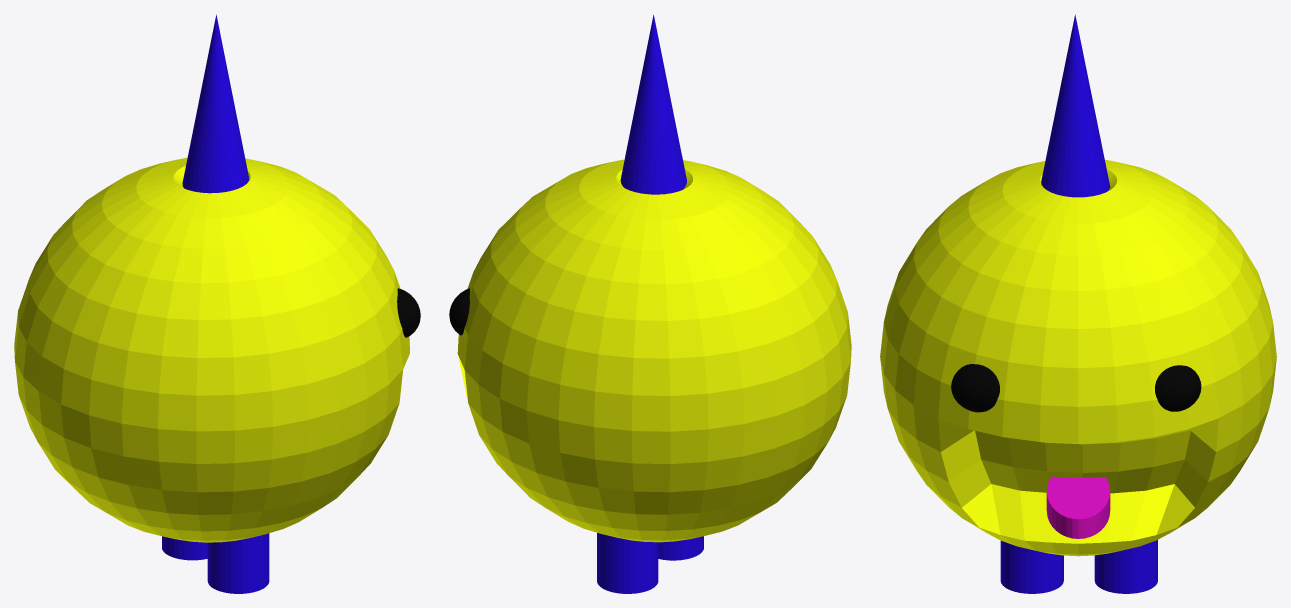
The model's file is Character.fbx.
The picture shows the model from 3 angles, left to right: view 1: azimuth 30°, elevation 25°; view 2: azimuth 150°, elevation 25°; view 3: azimuth 270°, elevation 25°; orthographic projection. The views are drawn at different scales.
Parts seen in each view (by area): view 1: Sphere, Cone, Cylinder, Cylinder.001, Sphere.002; view 2: Sphere, Cone, Cylinder.001, Cylinder, Sphere.001; view 3: Sphere, Cone, Cylinder.002, Cylinder.001, Cylinder, Sphere.002, Sphere.001.
Part boxes in pixels (bbox=[...]): Sphere: bbox=[14, 157, 409, 542]; Cone: bbox=[182, 14, 249, 193]; Cylinder: bbox=[207, 533, 269, 593]; Cylinder.001: bbox=[162, 536, 207, 560]; Sphere.002: bbox=[397, 288, 420, 337]; Sphere: bbox=[457, 159, 851, 542]; Cone: bbox=[620, 15, 686, 194]; Cylinder.001: bbox=[597, 533, 658, 593]; Cylinder: bbox=[658, 536, 703, 560]; Sphere.001: bbox=[449, 288, 469, 335]; Sphere: bbox=[880, 159, 1276, 556]; Cone: bbox=[1041, 14, 1110, 197]; Cylinder.002: bbox=[1046, 476, 1110, 538]; Cylinder.001: bbox=[1094, 540, 1157, 593]; Cylinder: bbox=[1000, 541, 1063, 593]; Sphere.002: bbox=[951, 364, 999, 412]; Sphere.001: bbox=[1155, 365, 1201, 411].
Size of the model in its own units: 1296 by 1970 by 1252.
